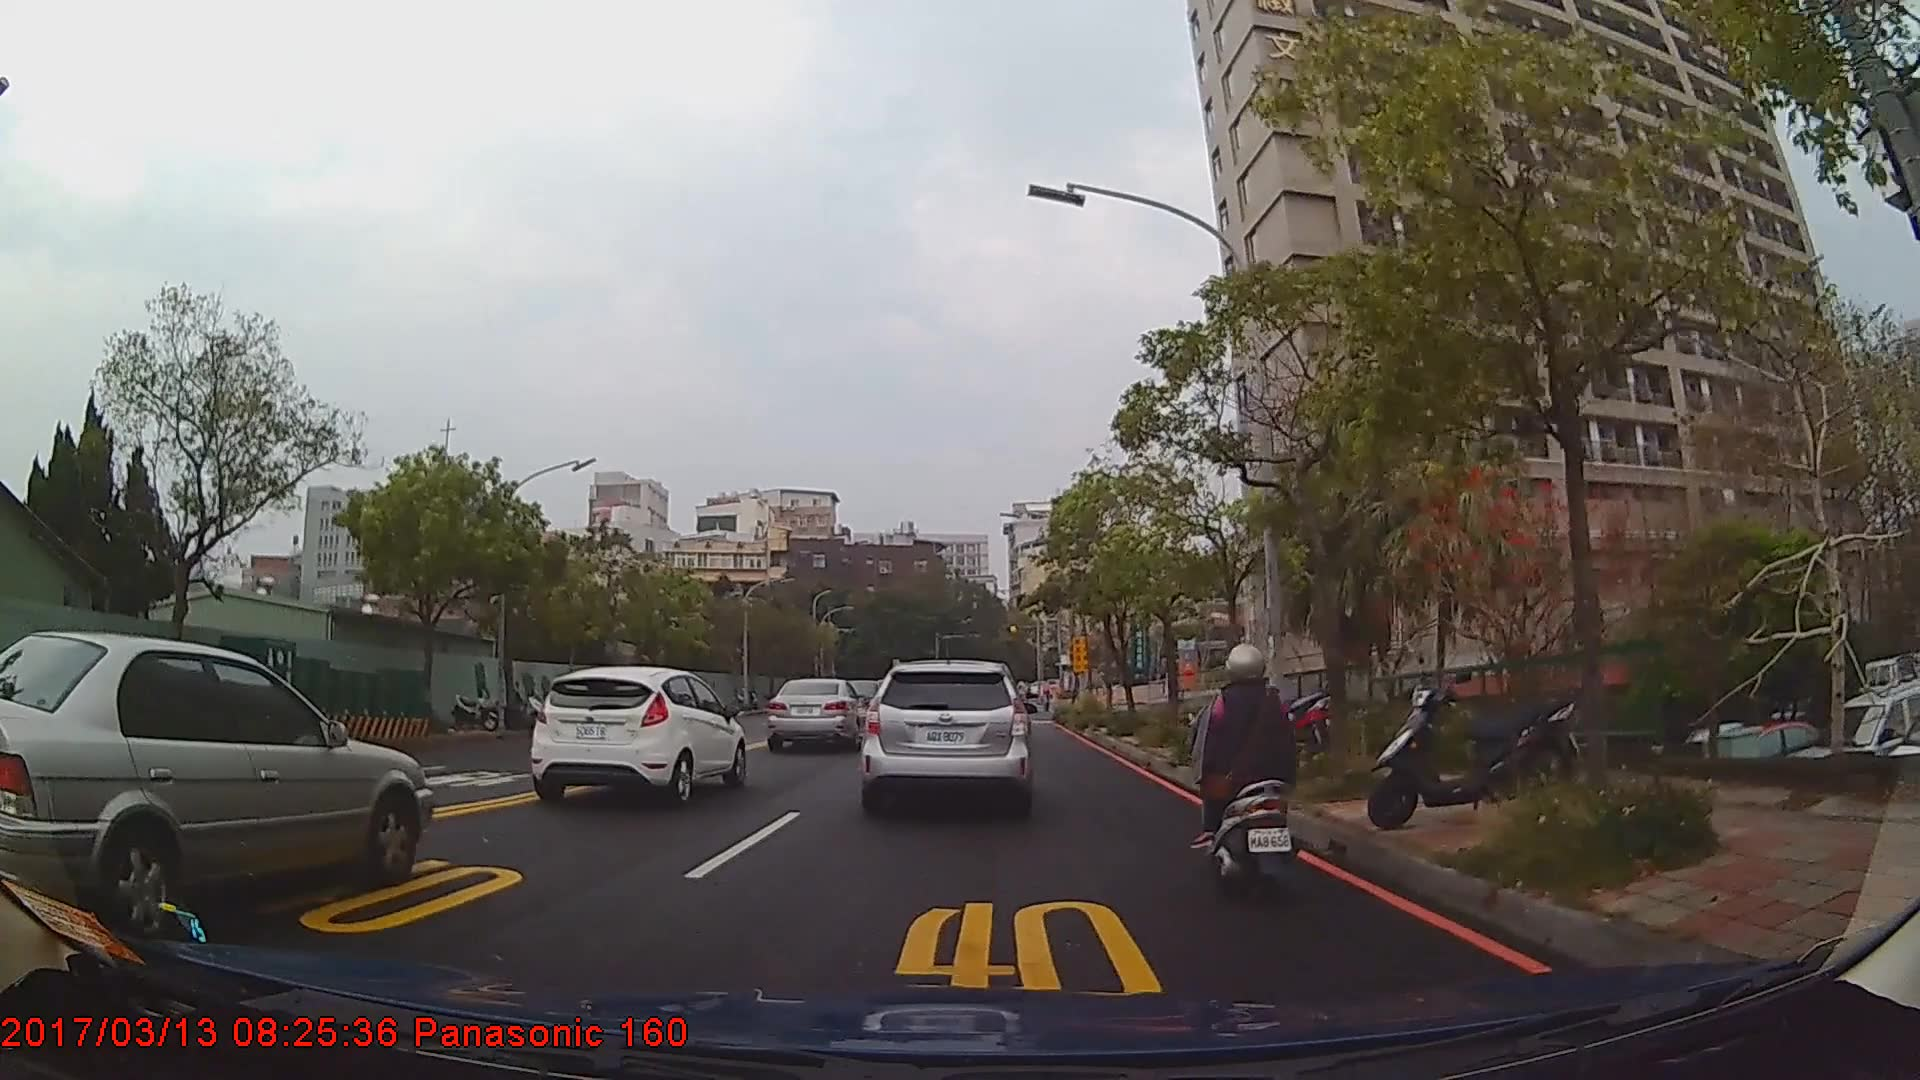rider: (1192, 641, 1317, 902)
vehicle: (0, 624, 432, 939), (527, 665, 745, 809), (860, 658, 1032, 821), (767, 675, 870, 753)
